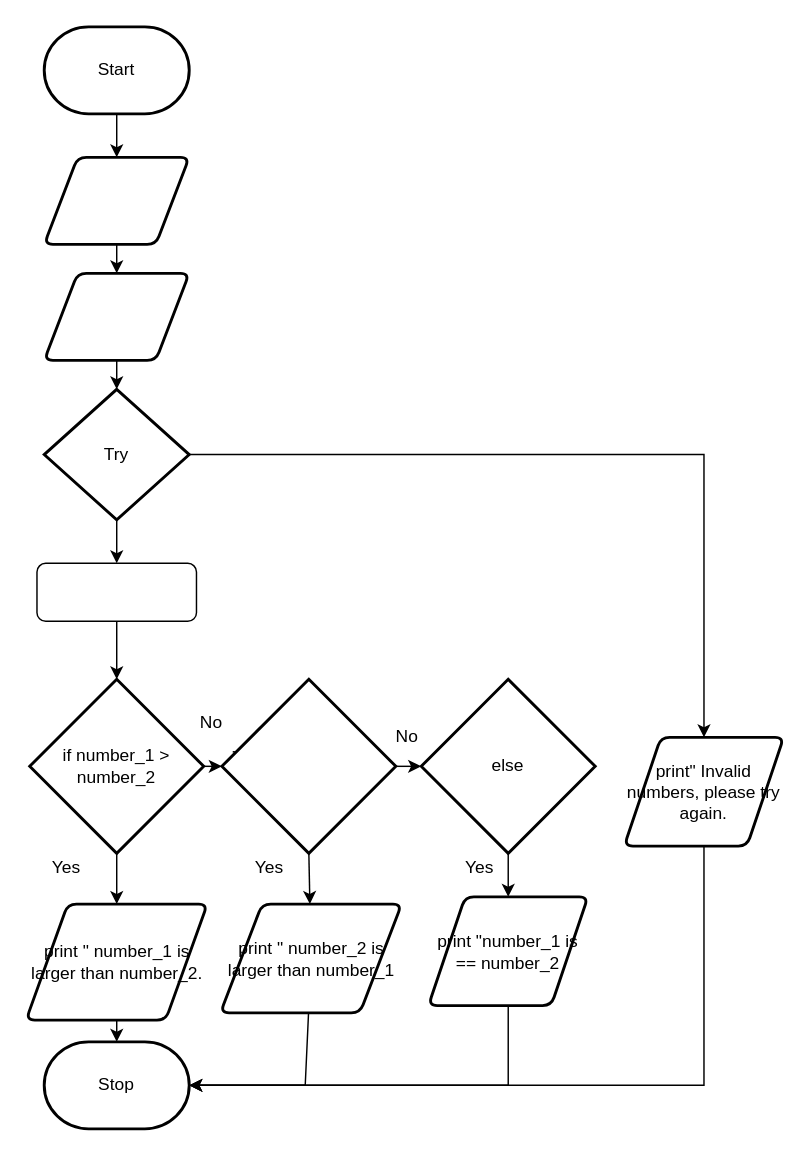
Some shapes in this 811 by 1154 pixel diagram are drawn without their labels. The shapes that lost their labels are listed below. From the top down, each one's centre as x and y in pixels, then its label:
At (x=116, y=200): "Get number_1".
At (x=116, y=316): "Get number_2".
At (x=116, y=591): "Convert int to string".
At (x=308, y=765): "elseif number_1 < number_2".
